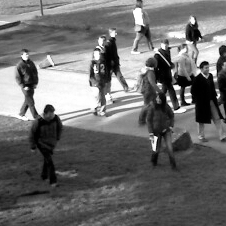person: (31, 104, 62, 187), (148, 91, 180, 170), (192, 61, 223, 142), (154, 38, 185, 112), (15, 49, 41, 120), (139, 57, 160, 130), (107, 27, 130, 92), (174, 42, 195, 106), (131, 1, 156, 54), (89, 46, 107, 115), (98, 34, 116, 102), (185, 15, 203, 69), (218, 61, 226, 123), (214, 44, 226, 75)
